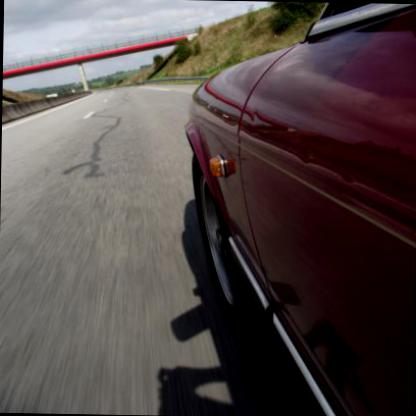car: (183, 6, 415, 403)
